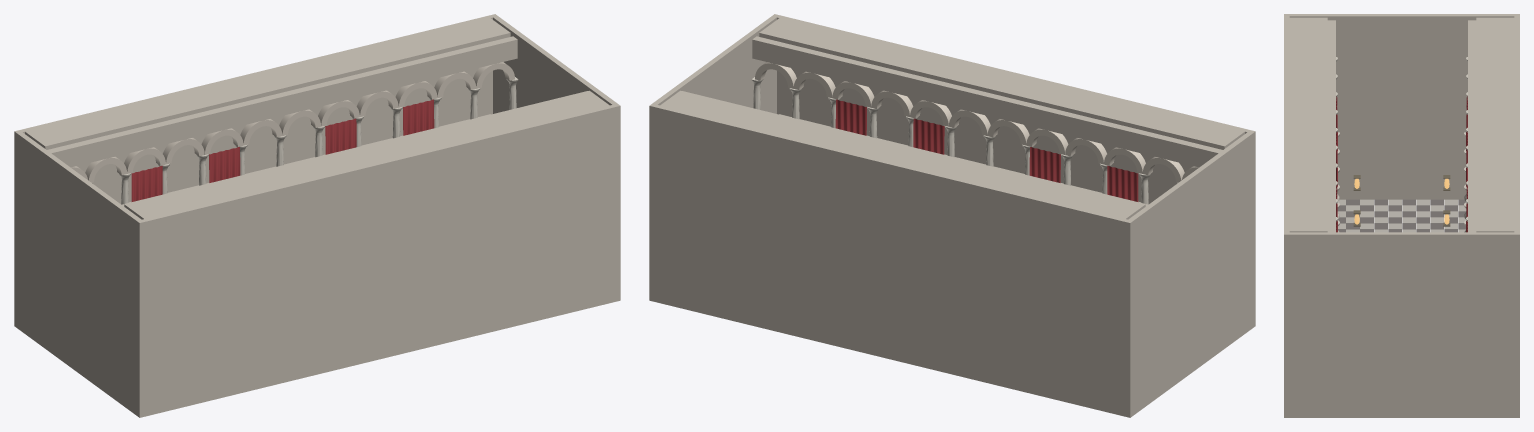
The model's file is raw-hall.gltf.
3 renders of one model, left to right at view 1: azimuth 30°, elevation 25°; view 2: azimuth 150°, elevation 25°; view 3: azimuth 270°, elevation 25°, orthographic. The views are drawn at different scales.
Parts seen in each view (by area): view 1: walls, arches, drapery, columns; view 2: walls, arches, drapery, columns; view 3: walls, floor, floor inlay, drapery, columns, lantern frames.
Boxes of the visible parts, x1,y1,x2,y2 form: walls: (14,14,620,417); arches: (71,62,514,182); drapery: (131,99,434,201); columns: (92,77,518,204); walls: (649,14,1255,417); arches: (755,62,1198,182); drapery: (835,99,1138,201); columns: (751,77,1177,204); walls: (1284,14,1519,417); floor: (1338,199,1466,232); floor inlay: (1337,199,1465,232); drapery: (1336,96,1467,232); columns: (1336,57,1467,232); lantern frames: (1353,175,1450,226).
Bounding box in the file's own units: 37.2 × 14.4 × 16.8.
